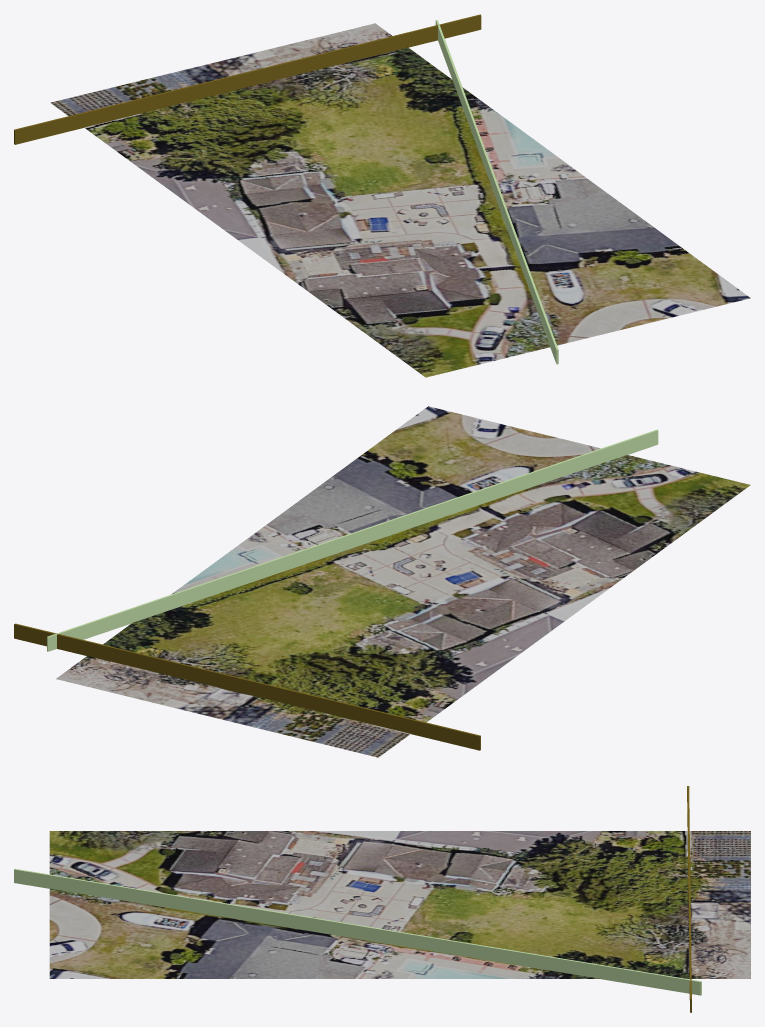
The model's file is backyard2.glb.
3 renders of one model, top to bottom at view 1: azimuth 30°, elevation 25°; view 2: azimuth 150°, elevation 25°; view 3: azimuth 270°, elevation 25°, orthographic. The views are drawn at different scales.
Visible parts, largest first — view 1: GOOGLE_SAT_WM, Cube.001, Cube; view 2: GOOGLE_SAT_WM, Cube, Cube.001; view 3: GOOGLE_SAT_WM, Cube, Cube.001.
Part boxes in pixels (x1=…): GOOGLE_SAT_WM: x1=50, y1=23, x2=750, y2=377; Cube.001: x1=14, y1=14, x2=481, y2=144; Cube: x1=435, y1=20, x2=558, y2=364; GOOGLE_SAT_WM: x1=56, y1=406, x2=750, y2=757; Cube: x1=47, y1=429, x2=658, y2=651; Cube.001: x1=14, y1=623, x2=480, y2=750; GOOGLE_SAT_WM: x1=49, y1=831, x2=750, y2=978; Cube: x1=14, y1=868, x2=701, y2=995; Cube.001: x1=687, y1=786, x2=691, y2=1012.
Bounding box in the file's own units: 486 × 14.37 × 710.
3 materials, 1 textured.
